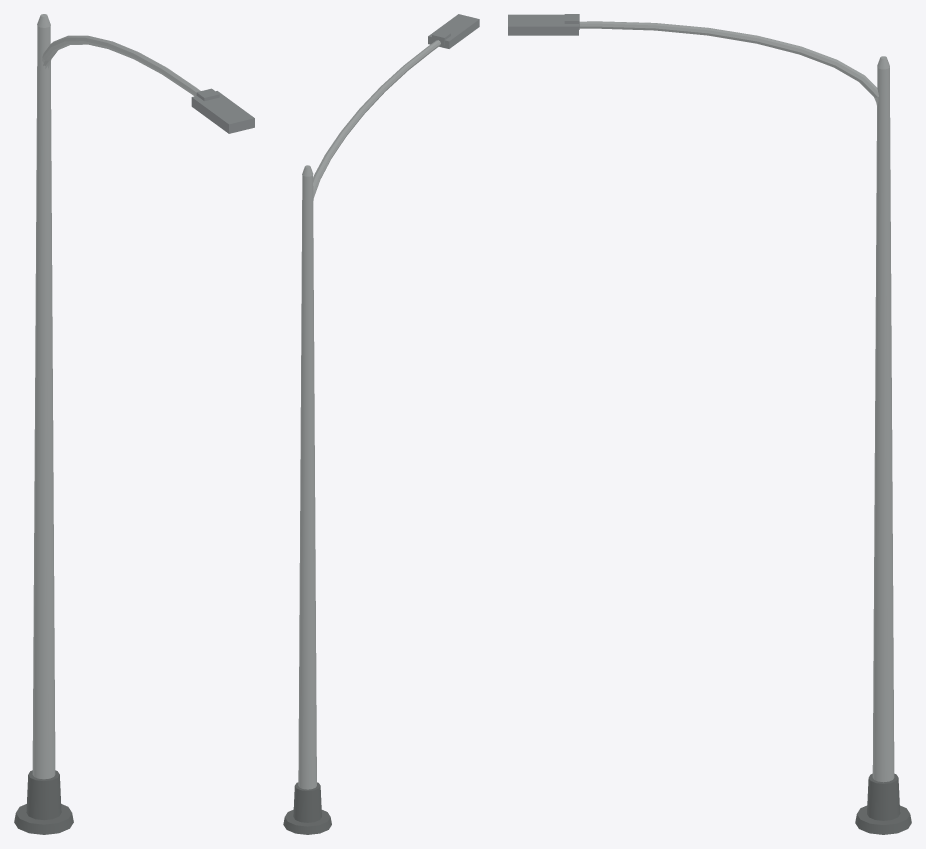
Rendered from seattle_streetlamp.glb.
3 renders of one model, left to right at view 1: azimuth 30°, elevation 25°; view 2: azimuth 150°, elevation 25°; view 3: azimuth 270°, elevation 25°, orthographic. The views are drawn at different scales.
Parts seen in each view (by area): view 1: seattle_streetlamp; view 2: seattle_streetlamp; view 3: seattle_streetlamp.
Part boxes in pixels (<box>): seattle_streetlamp: <box>14,14,254,834</box>; seattle_streetlamp: <box>283,14,479,834</box>; seattle_streetlamp: <box>508,14,911,834</box>.
Size of the model in its own units: 0.6799 by 10.65 by 4.84.
1 material, 1 textured.
